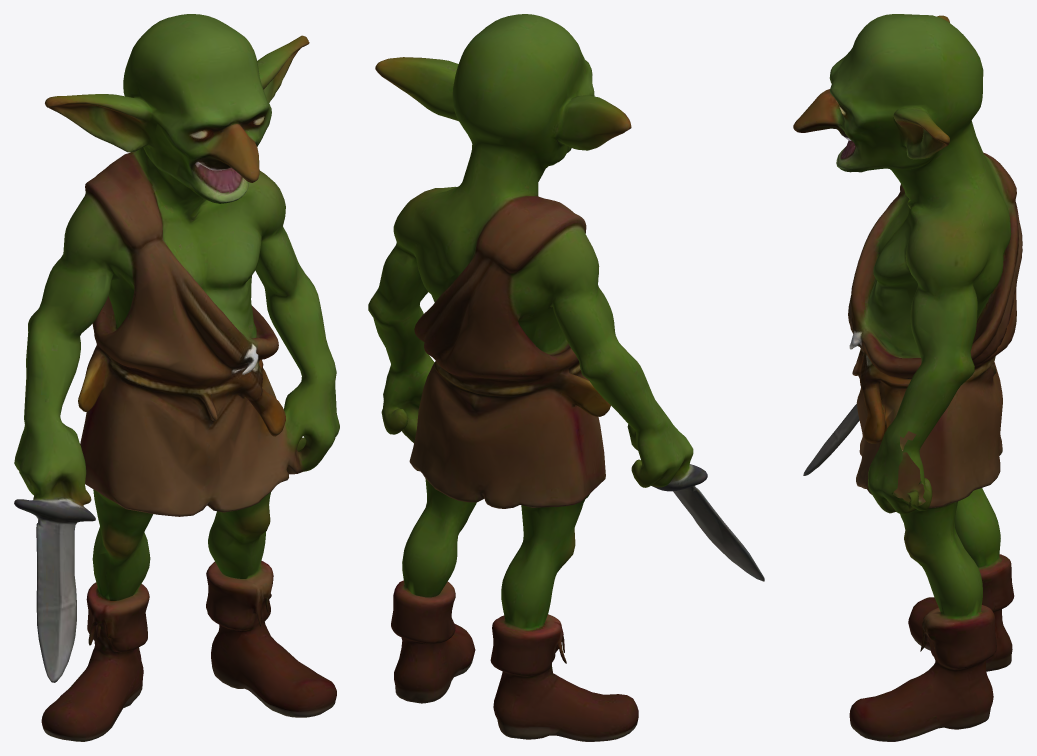
Rendered from goblin.glb.
The picture shows the model from 3 angles, left to right: view 1: azimuth 30°, elevation 25°; view 2: azimuth 150°, elevation 25°; view 3: azimuth 270°, elevation 25°; orthographic projection. The views are drawn at different scales.
Size of the model in its own units: 0.4908 by 0.9717 by 0.302.
1 material, 1 textured.
